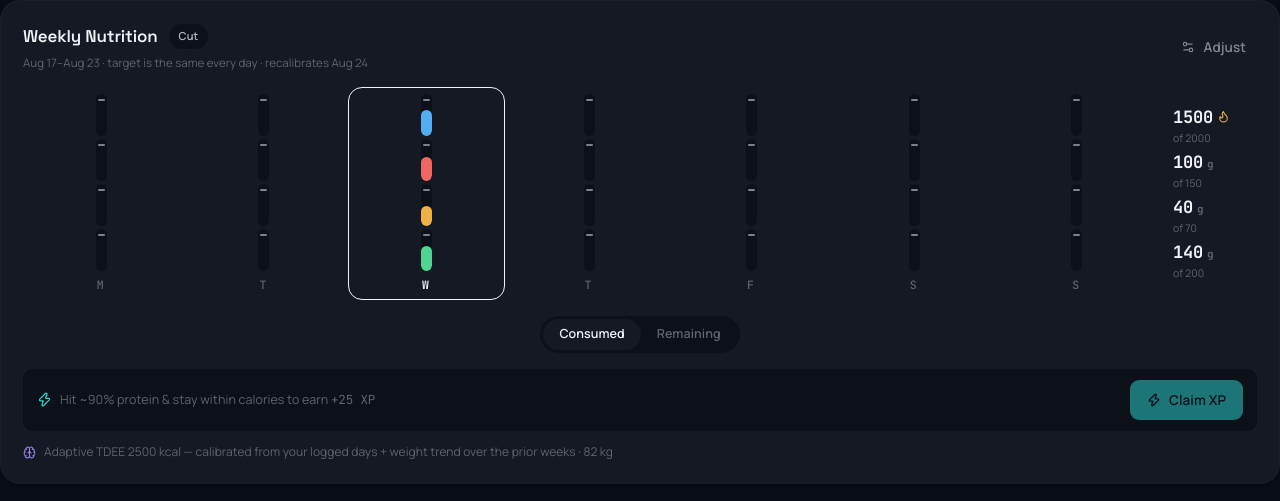
Test: WeeklyNutritionChart › switches to remaining budget when the toggle is clicked
Expected: the text "1500" is shown, 1173,106 -> 1230,128
Step 1. Click the button "Remaining" → [689, 334], box 641,319 -> 737,350
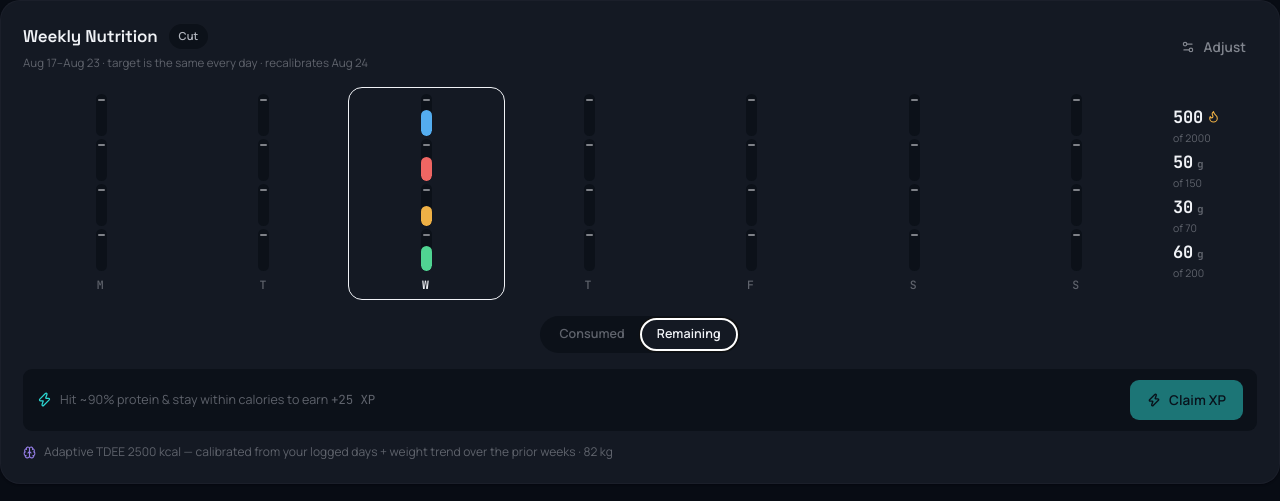
Expected: the text "50" is shown, 1173,151 -> 1193,173
Expected: the text "60" is shown, 1173,241 -> 1193,263
Expected: the text "30" is shown, 1173,196 -> 1193,218
